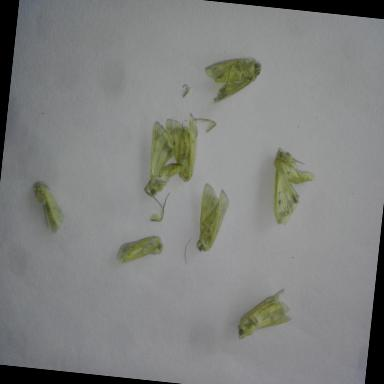abw: (265, 144, 321, 234), (142, 118, 195, 210), (232, 280, 300, 348), (198, 50, 266, 114), (191, 179, 238, 259), (22, 178, 72, 242), (111, 225, 170, 273)
